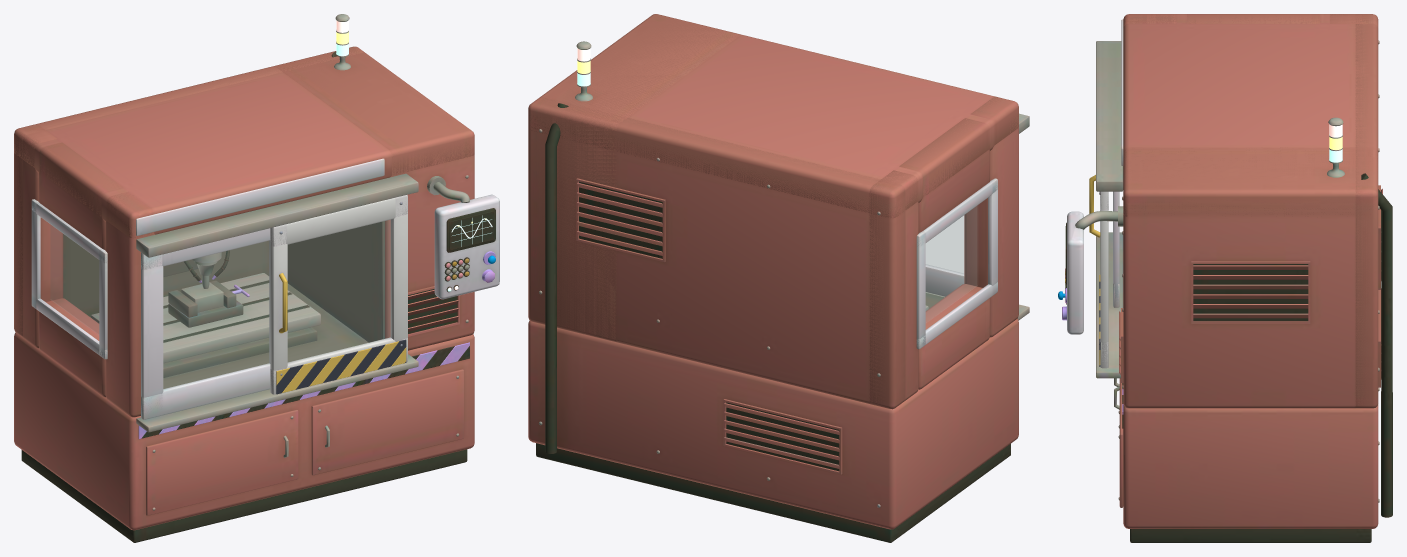
File: cnc-machine-recolor.glb
The picture shows the model from 3 angles, left to right: view 1: azimuth 30°, elevation 25°; view 2: azimuth 150°, elevation 25°; view 3: azimuth 270°, elevation 25°; orthographic projection. The views are drawn at different scales.
Parts seen in each view (by area): view 1: cnc-machine_body, cnc-machine_window_glass, cnc-machine_door_glass, cnc-machine_door, cnc-machine_side_glass; view 2: cnc-machine_body, cnc-machine_side_glass, cnc-machine_window_glass; view 3: cnc-machine_body, cnc-machine_door, cnc-machine_stack_light_lens.
Part boxes in pixels (x1,y1,x2,y2): cnc-machine_body: (14,14,499,542); cnc-machine_window_glass: (163,241,269,389); cnc-machine_door_glass: (288,220,391,362); cnc-machine_door: (270,195,407,394); cnc-machine_side_glass: (50,225,98,334); cnc-machine_body: (528,14,1029,542); cnc-machine_side_glass: (926,206,977,322); cnc-machine_window_glass: (926,216,963,273); cnc-machine_body: (1058,14,1392,542); cnc-machine_door: (1089,175,1108,368); cnc-machine_stack_light_lens: (1329,124,1342,162).
Size of the model in its own units: 2.55 by 2.65 by 1.97.
14 materials, 2 textured.
